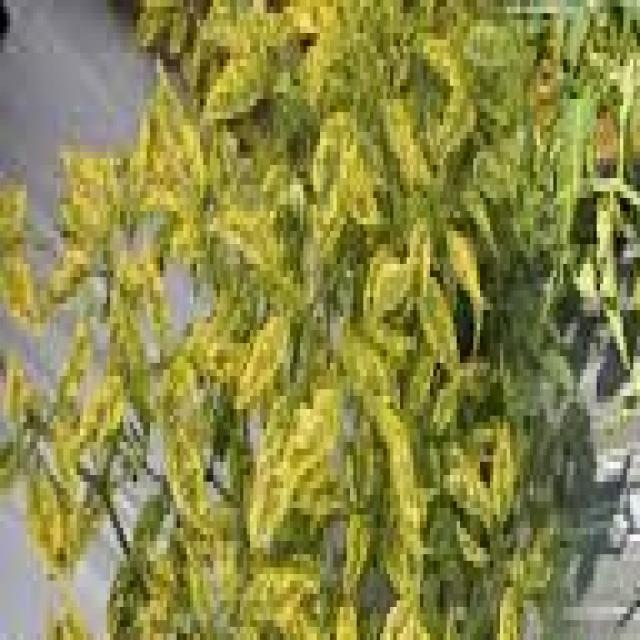virus_kuning: (232, 286, 288, 421)
